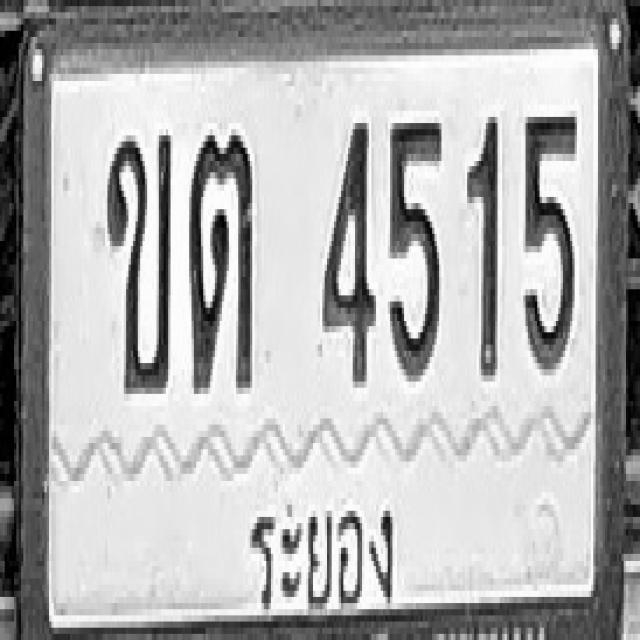1: (465, 114, 497, 378)
11KhorKhai: (105, 129, 171, 394)
30TorTao: (189, 132, 252, 391)
4: (321, 117, 375, 381)
5: (523, 111, 577, 369), (389, 114, 440, 378)
Rayong: (238, 476, 405, 638)
